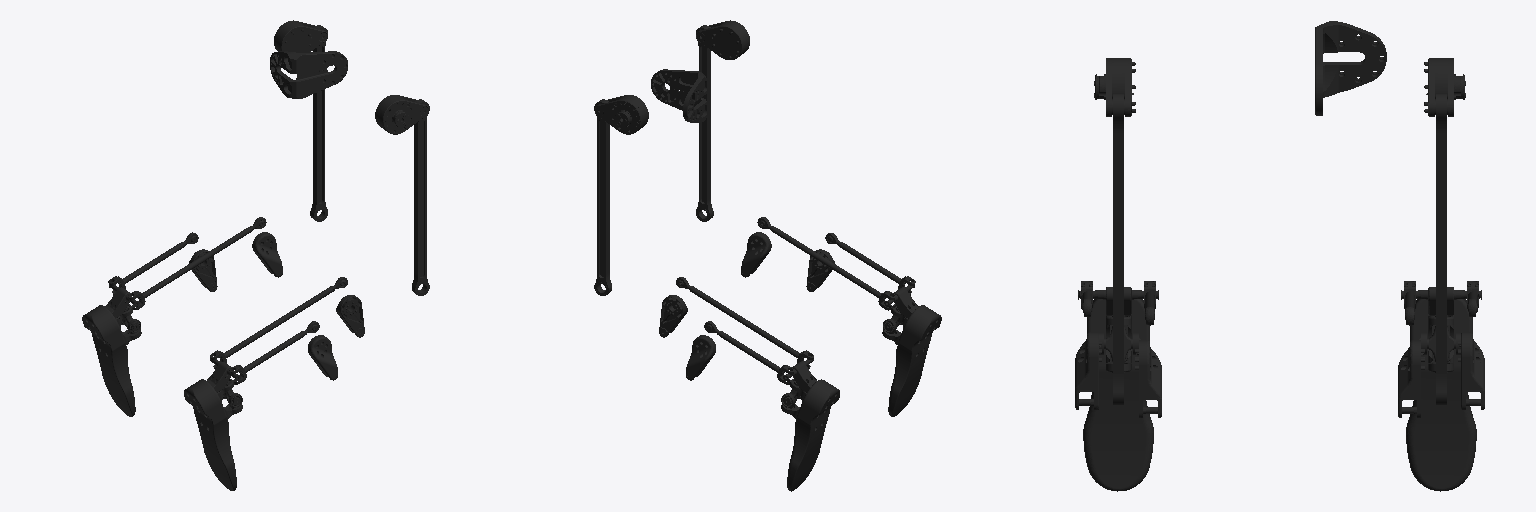
--- Render facts (derived) ---
3 views of the same robot in one strip: view 1: azimuth 30°, elevation 25°; view 2: azimuth 150°, elevation 25°; view 3: azimuth 270°, elevation 25° (orthographic).
Model DHAL with 30 links and 29 joints (29 revolute), rooted at Pelvis, posed all joints at 0 but 2 set to mid-range because 0 is outside their limits (L_knee_joint = 1.22, R_knee_joint = 1.22).
Visible links, largest first — view 1: L_Foot, R_Foot, L_Hip_to_Thigh, R_Knee_Link, L_Knee_Link, R_Knee_Input, L_Knee_Input, L_Heel_Roll_Right, R_Heel_Roll_Left, L_Ankle_Input_Right, R_Ankle_Input_Right, R_Ankle_Input_Left (+3 smaller); view 2: R_Foot, L_Foot, L_Knee_Link, L_Hip_to_Thigh, R_Knee_Link, L_Knee_Input, R_Knee_Input, R_Heel_Roll_Left, L_Heel_Roll_Right, R_Ankle_Input_Left, L_Ankle_Input_Left, L_Ankle_Input_Right (+3 smaller); view 3: L_Foot, R_Foot, L_Hip_to_Thigh, L_Knee_Link, R_Knee_Link, R_Knee_Input, L_Knee_Input, R_Ankle_Input_Right, L_Ankle_Input_Left, L_Ankle_Input_Right, R_Ankle_Input_Left.
Link boxes in pixels (bbox=[...]): L_Foot: bbox=[82, 285, 141, 416]; R_Foot: bbox=[184, 359, 242, 490]; L_Hip_to_Thigh: bbox=[270, 51, 347, 98]; R_Knee_Link: bbox=[412, 99, 429, 295]; L_Knee_Link: bbox=[310, 25, 327, 221]; R_Knee_Input: bbox=[375, 95, 429, 134]; L_Knee_Input: bbox=[274, 20, 327, 52]; L_Heel_Roll_Right: bbox=[128, 217, 266, 309]; R_Heel_Roll_Left: bbox=[210, 277, 347, 368]; L_Ankle_Input_Right: bbox=[252, 232, 282, 277]; R_Ankle_Input_Right: bbox=[308, 335, 337, 380]; R_Ankle_Input_Left: bbox=[336, 295, 364, 337]; R_Foot: bbox=[882, 285, 941, 416]; L_Foot: bbox=[781, 359, 839, 491]; L_Knee_Link: bbox=[594, 99, 611, 295]; L_Hip_to_Thigh: bbox=[651, 69, 706, 122]; R_Knee_Link: bbox=[696, 25, 713, 221]; L_Knee_Input: bbox=[594, 95, 648, 134]; R_Knee_Input: bbox=[696, 20, 749, 59]; R_Heel_Roll_Left: bbox=[757, 217, 895, 310]; L_Heel_Roll_Right: bbox=[676, 277, 813, 368]; R_Ankle_Input_Left: bbox=[741, 232, 771, 277]; L_Ankle_Input_Left: bbox=[686, 335, 715, 380]; L_Ankle_Input_Right: bbox=[659, 295, 687, 337]; L_Foot: bbox=[1401, 287, 1481, 491]; R_Foot: bbox=[1078, 287, 1158, 491]; L_Hip_to_Thigh: bbox=[1315, 21, 1386, 115]; L_Knee_Link: bbox=[1436, 94, 1446, 404]; R_Knee_Link: bbox=[1113, 94, 1123, 404]; R_Knee_Input: bbox=[1094, 58, 1135, 116]; L_Knee_Input: bbox=[1424, 58, 1465, 116]; R_Ankle_Input_Right: bbox=[1075, 332, 1101, 409]; L_Ankle_Input_Left: bbox=[1458, 332, 1484, 409]; L_Ankle_Input_Right: bbox=[1398, 340, 1424, 417]; R_Ankle_Input_Left: bbox=[1135, 340, 1161, 417].
Size in the robot's own frame: 0.5569 by 0.5222 by 0.7984 metres.
Meshes: 19 distinct files referenced, 17 mesh visuals loaded (10 Collada DAE); not drawn: 13 (reference not matched to a file when rendering).

robot.urdf — DHAL:
<robot name="DHAL" xmlns:xacro="http://www.ros.org/wiki/xacro">
    <material name="black">
        <color rgba="0.0 0.0 0.0 1.0"/>
    </material>
    <material name="blue">
        <color rgba="0.0 0.0 0.8 1.0"/>
    </material>
    <material name="green">
        <color rgba="0.0 0.8 0.0 1.0"/>
    </material>
    <material name="grey">
        <color rgba="0.2 0.2 0.2 1.0"/>
    </material>
    <material name="silver">
        <color rgba="0.913725490196 0.913725490196 0.847058823529 1.0"/>
    </material>
    <material name="orange">
        <color rgba="1.0 0.423529411765 0.0392156862745 1.0"/>
    </material>
    <material name="brown">
        <color rgba="0.870588235294 0.811764705882 0.764705882353 1.0"/>
    </material>
    <material name="red">
        <color rgba="0.8 0.0 0.0 1.0"/>
    </material>
    <material name="white">
        <color rgba="1.0 1.0 1.0 1.0"/>
    </material>

    <link name="Pelvis">
        <visual>
            <origin rpy="0 0 0" xyz="0 0 0"/>
            <geometry>
                <mesh filename="Pelvis.dae" scale="1 1 1"/>
            </geometry>
            <material name="grey"/>
        </visual>
        <collision>
            <origin rpy="0 0 0" xyz="0 0 0"/>
            <geometry>
                <box size="0.12 0.32 0.1"/>
            </geometry>
        </collision>
        <inertial>
            <origin rpy="0 0 0" xyz="0.002084 0 -0.009262"/>
            <mass value="4.775304"/>
            <inertia ixx="0.046918" ixy="0.000013" ixz="0.000449" iyy="0.007785" iyz="0.0" izz="0.0048142"/>
        </inertial>
    </link>

    <joint name="L_hip_yaw_joint" type="revolute">
        <origin rpy="0 0 0" xyz="0.0 0.1 -0.0492"/>
        <parent link="Pelvis"/>
        <child link="L_Hip"/>
        <axis xyz="0 0 1"/>
        <dynamics rotor_inertia="0.0724" damping="0" friction="0"/>
        <limit effort="360.0" velocity="10.0" lower="-0.785398" upper="1.57079632679"/>
    </joint>
    <link name="L_Hip">
        <visual>
            <origin rpy="0 0 0" xyz="0 0 0"/>
            <geometry>
                <mesh filename="Hip.dae" scale="1 1 1"/>
            </geometry>
            <material name="grey"/>
        </visual>
        <collision>
            <origin rpy="0 1.57079632679 0" xyz="0 0 -0.07"/>
            <geometry>
                <cylinder radius="0.06" length="0.08"/>
            </geometry>
        </collision>
        <inertial>
            <origin rpy="0 0 0" xyz="0.010407 0.00004 -0.066062"/>
            <mass value="2.204506"/>
            <inertia ixx="0.013818" ixy="0.000008" ixz="-0.001448" iyy="0.013243" iyz="-0.000007" izz="0.003344"/>
        </inertial>
    </link>

    <joint name="L_hip_roll_joint" type="revolute">
        <origin rpy="0 0 0" xyz="0.0502 0.0 -0.07"/>
        <parent link="L_Hip"/>
        <child link="L_Hip_to_Thigh"/>
        <axis xyz="1 0 0"/>
        <dynamics rotor_inertia="0.0724" damping="0" friction="0"/>
        <limit effort="360.0" velocity="10.0" lower="-0.349066" upper="0.785398"/>
    </joint>
    <link name="L_Hip_to_Thigh">
        <visual>
            <origin rpy="0 0 0" xyz="0 0 0"/>
            <geometry>
                <mesh filename="Hip_to_Thigh.dae" scale="1 1 1"/>
            </geometry>
            <material name="grey"/>
        </visual>
        <collision>
            <origin rpy="1.57079632679 0 0" xyz="0.096 0.005 0"/>
            <geometry>
                <cylinder radius="0.09" length="0.1"/>
            </geometry>
        </collision>
        <inertial>
            <origin rpy="0 0 0" xyz="0.038459 -0.034907 0.0"/>
            <mass value="0.260453"/>
            <inertia ixx="0.000662" ixy="-0.000480" ixz="-0.000001" iyy="0.000964" iyz="-0.000001" izz="0.001216"/>
        </inertial>
    </link>

    <joint name="L_hip_pitch_joint" type="revolute">
        <origin rpy="0 0 0" xyz="0.096 -0.0451 0"/>
        <parent link="L_Hip_to_Thigh"/>
        <child link="L_Thigh"/>
        <axis xyz="0 1 0"/>
        <dynamics rotor_inertia="0.3608" damping="0" friction="0"/>
        <limit effort="600.0" velocity="10.0" lower="-1.57079632679" upper="1.57079632679"/>
    </joint>
    <link name="L_Thigh">
        <visual>
            <origin rpy="0 0 0" xyz="0 0 0"/>
            <geometry>
                <mesh filename="Thigh.dae" scale="1 1 1"/>
            </geometry>
            <material name="grey"/>
        </visual>
        <inertial>
            <origin rpy="0 0 0" xyz="-0.001634 0.085634 -0.046218"/>
            <mass value="6.727728"/>
            <inertia ixx="0.162785" ixy="-0.001743" ixz="0.001495" iyy="0.105165" iyz="-0.046141" izz="0.078287"/>
        </inertial>
    </link>

    <joint name="L_knee_joint" type="revolute">
        <origin rpy="0 0 0" xyz="0 0.1507 -0.4"/>
        <parent link="L_Thigh"/>
        <child link="L_Calf"/>
        <axis xyz="0 1 0"/>
        <dynamics damping="0" friction="0"/>
        <limit lower="0.0872665" upper="2.35619"/>
    </joint>
    <link name="L_Calf">
        <visual>
            <origin rpy="0 0 0" xyz="0 0 0"/>
            <geometry>
                <mesh filename="Calf.dae" scale="1 1 1"/>
            </geometry>
            <material name="grey"/>
        </visual>
        <collision>
            <origin rpy="0 0 0" xyz="0 0 -0.205"/>
            <geometry>
                <box size="0.1 0.05 0.30"/>
            </geometry>
        </collision>
        <inertial>
            <origin rpy="0 0 0" xyz="-0.005214 0.000006 -0.145234"/>
            <mass value="3.386071"/>
            <inertia ixx="0.102883" ixy="0.000001" ixz="0.002760" iyy="0.105686" iyz="-0.000764" izz="0.004473"/>
        </inertial>
    </link>

    <joint name="L_ankle_pitch_joint" type="revolute">
        <origin rpy="0 0 0" xyz="0 0 -0.41"/>
        <parent link="L_Calf"/>
        <child link="L_Universal"/>
        <axis xyz="0 1 0"/>
        <dynamics damping="0" friction="0"/>
        <limit lower="-0.872665" upper="0.698132"/>
    </joint>
    <link name="L_Universal">
        <visual>
            <origin rpy="0 0 0" xyz="0 0 0"/>
            <geometry>
                <mesh filename="Ankle_Universal.dae" scale="1 1 1"/>
            </geometry>
            <material name="grey"/>
        </visual>
        <inertial>
            <origin rpy="0 0 0" xyz="0.0 0.0 0.0"/>
            <mass value="0.209567"/>
            <inertia ixx="0.000048" ixy="0.0" ixz="0.0" iyy="0.000089" iyz="0.0" izz="0.000124"/>
        </inertial>
    </link>

    <joint name="L_ankle_roll_joint" type="revolute">
        <origin rpy="0 0 0" xyz="0 0 0"/>
        <parent link="L_Universal"/>
        <child link="L_Foot"/>
        <axis xyz="1 0 0"/>
        <dynamics damping="0" friction="0"/>
        <limit lower="-0.523599" upper="0.523599"/>
    </joint>
    <link name="L_Foot">
        <visual>
            <origin rpy="0 0 0" xyz="0 0 0"/>
            <geometry>
                <mesh filename="Foot.dae" scale="1 1 1"/>
            </geometry>
            <material name="grey"/>
        </visual>
            <collision>
                <origin rpy="0 0 0" xyz="0.065 0 -0.07"/>
                <geometry>
                    <box size="0.18 0.08 0.02"/>
                </geometry>
            </collision>
            <collision>
                <origin rpy="0 0 0" xyz="0.155 0 -0.07"/>
                <geometry>
                    <cylinder length="0.02" radius="0.04"/>
                </geometry>
            </collision>
            <collision>
                <origin rpy="0 0 0" xyz="-0.025 0 -0.07"/>
                <geometry>
                    <cylinder length="0.02" radius="0.04"/>
                </geometry>
            </collision>
        <inertial>
            <origin rpy="0 0 0" xyz="0.004829 -0.00002 -0.035655"/>
            <mass value="0.571816"/>
            <inertia ixx="0.001485" ixy="0.000001" ixz="-0.000942" iyy="0.003882" iyz="0.0" izz="0.002841"/>
        </inertial>
    </link>

    <joint name="L_heel_pitch_left_joint" type="revolute">
        <origin rpy="0 0 0" xyz="-0.06401 0.04 0.01129"/>
        <parent link="L_Foot"/>
        <child link="L_Heel_Pitch_Left"/>
        <axis xyz="0 1 0"/>
        <dynamics damping="0" friction="0"/>
    </joint>
    <link name="L_Heel_Pitch_Left">
        <visual>
            <origin rpy="0 0 0" xyz="0 0 0"/>
            <geometry>
                <mesh filename="Heel_Pitch.dae" scale="1 1 1"/>
            </geometry>
            <material name="grey"/>
        </visual>
        <inertial>
            <origin rpy="0 0 0" xyz="0.0 0.0 0.0"/>
            <mass value="0.046696"/>
            <inertia ixx="0.00002" ixy="0.0" ixz="0.0" iyy="0.000005" iyz="0.0" izz="0.000005"/>
        </inertial>
    </link>

    <joint name="L_heel_roll_left_joint" type="revolute">
        <origin rpy="0 0 0" xyz="0 0 0"/>
        <parent link="L_Heel_Pitch_Left"/>
        <child link="L_Heel_Roll_Left"/>
        <axis xyz="1 0 0"/>
        <dynamics damping="0" friction="0"/>
    </joint>
    <link name="L_Heel_Roll_Left">
        <visual>
            <origin rpy="0 0 0" xyz="0 0 0"/>
            <geometry>
                <mesh filename="Ankle_Link_Short.dae" scale="1 1 1"/>
            </geometry>
            <material name="grey"/>
        </visual>
        <inertial>
            <origin rpy="0 0 0" xyz="0.000024 0.0 0.087387"/>
            <mass value="0.116743"/>
            <inertia ixx="0.001566" ixy="0.0" ixz="0.0" iyy="0.001571" iyz="0.0" izz="0.000009"/>
        </inertial>
    </link>

    <joint name="L_heel_pitch_right_joint" type="revolute">
        <origin rpy="0 0 0" xyz="-0.06401 -0.04 0.01129"/>
        <parent link="L_Foot"/>
        <child link="L_Heel_Pitch_Right"/>
        <axis xyz="0 1 0"/>
        <dynamics damping="0" friction="0"/>
    </joint>
    <link name="L_Heel_Pitch_Right">
        <visual>
            <origin rpy="0 0 0" xyz="0 0 0"/>
            <geometry>
                <mesh filename="Heel_Pitch.dae" scale="1 1 1"/>
            </geometry>
            <material name="grey"/>
        </visual>
        <inertial>
            <origin rpy="0 0 0" xyz="0.0 0.0 0.0"/>
            <mass value="0.046696"/>
            <inertia ixx="0.00002" ixy="0.0" ixz="0.0" iyy="0.000005" iyz="0.0" izz="0.000005"/>
        </inertial>
    </link>

    <joint name="L_heel_roll_right_joint" type="revolute">
        <origin rpy="0 0 0" xyz="0 0 0"/>
        <parent link="L_Heel_Pitch_Right"/>
        <child link="L_Heel_Roll_Right"/>
        <axis xyz="1 0 0"/>
        <dynamics damping="0" friction="0"/>
    </joint>
    <link name="L_Heel_Roll_Right">
        <visual>
            <origin rpy="0 0 0" xyz="0 0 0"/>
            <geometry>
                <mesh filename="Ankle_Link_Long.dae" scale="1 1 1"/>
            </geometry>
            <material name="grey"/>
        </visual>
        <inertial>
            <origin rpy="0 0 0" xyz="0.00002 0.0 0.143108"/>
            <mass value="0.144226"/>
            <inertia ixx="0.005069" ixy="0.0" ixz="0.0" iyy="0.005074" iyz="0.0" izz="0.000009"/>
        </inertial>
    </link>


    <joint name="L_ankle_input_left_joint" type="revolute">
        <origin rpy="0 0 0" xyz="-0.008 0.0255 -0.20464"/>
        <parent link="L_Calf"/>
        <child link="L_Ankle_Input_Left"/>
        <axis xyz="0 1 0"/>
        <dynamics rotor_inertia="0.023168" damping="0" friction="0"/>
        <limit effort="150.0" velocity="10.0"/>
    </joint>
    <link name="L_Ankle_Input_Left">
        <visual>
            <origin rpy="0 0 0" xyz="0 0 0"/>
            <geometry>
                <mesh filename="Ankle_Link_Input.dae" scale="1 1 1"/>
            </geometry>
            <material name="grey"/>
        </visual>
        <inertial>
            <origin rpy="0 0 0" xyz="0.02255 0.012714 -0.001469"/>
            <mass value="0.132288"/>
            <inertia ixx="0.000048" ixy="0.000048" ixz="0.0" iyy="0.00017" iyz="-0.000004" izz="0.000187"/>
        </inertial>
    </link>

    <joint name="L_ankle_input_right_joint" type="revolute">
        <origin rpy="0 0 0" xyz="-0.008 -0.0255 -0.08964"/>
        <parent link="L_Calf"/>
        <child link="L_Ankle_Input_Right"/>
        <axis xyz="0 1 0"/>
        <dynamics rotor_inertia="0.023168" damping="0" friction="0"/>
        <limit effort="150.0" velocity="10.0"/>
    </joint>
    <link name="L_Ankle_Input_Right">
        <visual>
            <origin rpy="0 0 0" xyz="0 0 0"/>
            <geometry>
                <mesh filename="Ankle_Link_Input_mir.dae" scale="1 1 1"/>
            </geometry>
            <material name="grey"/>
        </visual>
        <inertial>
            <origin rpy="0 0 0" xyz="0.02255 -0.012714 -0.001469"/>
            <mass value="0.132288"/>
            <inertia ixx="0.000048" ixy="-0.000048" ixz="0.0" iyy="0.00017" iyz="0.000004" izz="0.000187"/>
        </inertial>
    </link>

    <joint name="L_knee_input_joint" type="revolute">
        <origin rpy="0 0 0" xyz="0 0.1342 0"/>
        <parent link="L_Thigh"/>
        <child link="L_Knee_Input"/>
        <axis xyz="0 1 0"/>
        <dynamics damping="0" friction="0"/>
        <limit effort="600.0" velocity="10.0"/>
    </joint>
    <link name="L_Knee_Input">
        <visual>
            <origin rpy="0 0 0" xyz="0 0 0"/>
            <geometry>
                <mesh filename="Knee_Link_Input.dae" scale="1 1 1"/>
            </geometry>
            <material name="grey"/>
        </visual>
        <inertial>
            <origin rpy="0 0 0" xyz="0.017352 0.017440 -0.000053"/>
            <mass value="0.335783"/>
            <inertia ixx="0.000254" ixy="0.000096" ixz="0.000002" iyy="0.000514" iyz="0.0" izz="0.000574"/>
        </inertial>
    </link>

    <joint name="L_knee_link_joint" type="revolute">
        <origin rpy="0 0 0" xyz="0.06 0.0165 0"/>
        <parent link="L_Knee_Input"/>
        <child link="L_Knee_Link"/>
        <axis xyz="0 1 0"/>
        <dynamics damping="0" friction="0"/>
    </joint>
    <link name="L_Knee_Link">
        <visual>
            <origin rpy="0 0 0" xyz="0 0 0"/>
            <geometry>
                <mesh filename="Knee_Link.dae" scale="1 1 1"/>
            </geometry>
            <material name="grey"/>
        </visual>
        <inertial>
            <origin rpy="0 0 0" xyz="0.0 -0.000002 -0.2"/>
            <mass value="0.203531"/>
            <inertia ixx="0.012837" ixy="0.0" ixz="0.0" iyy="0.012848" iyz="0.0" izz="0.000018"/>
        </inertial>
    </link>

    <joint name="R_hip_yaw_joint" type="revolute">
        <origin rpy="0 0 0" xyz="0.0 -0.1 -0.0492"/>
        <parent link="Pelvis"/>
        <child link="R_Hip"/>
        <axis xyz="0 0 1"/>
        <dynamics rotor_inertia="0.0724" damping="0" friction="0"/>
        <limit effort="360.0" velocity="10.0" lower="-0.785398" upper="1.57079632679"/>
    </joint>
    <link name="R_Hip">
        <visual>
            <origin rpy="0 0 0" xyz="0 0 0"/>
            <geometry>
                <mesh filename="Hip.dae" scale="1 1 1"/>
            </geometry>
            <material name="grey"/>
        </visual>
        <collision>
            <origin rpy="0 1.57079632679 0" xyz="0 0 -0.07"/>
            <geometry>
                <cylinder radius="0.06" length="0.08"/>
            </geometry>
        </collision>
        <inertial>
            <origin rpy="0 0 0" xyz="0.010407 0.00004 -0.066062"/>
            <mass value="2.204506"/>
            <inertia ixx="0.013818" ixy="0.000008" ixz="-0.001448" iyy="0.013243" iyz="-0.000007" izz="0.003344"/>
        </inertial>
    </link>

    <joint name="R_hip_roll_joint" type="revolute">
        <origin rpy="0 0 0" xyz="0.0502 0.0 -0.07"/>
        <parent link="R_Hip"/>
        <child link="R_Hip_to_Thigh"/>
        <axis xyz="1 0 0"/>
        <dynamics rotor_inertia="0.0724" damping="0" friction="0"/>
        <limit effort="360.0" velocity="10.0" lower="-0.349066" upper="0.785398"/>
    </joint>
    <link name="R_Hip_to_Thigh">
        <visual>
            <origin rpy="0 0 0" xyz="0 0 0"/>
            <geometry>
                <mesh filename="Hip_to_Thigh_mir.dae" scale="1 1 1"/>
            </geometry>
            <material name="grey"/>
        </visual>
        <collision>
            <origin rpy="1.57079632679 0 0" xyz="0.096 0.005 0"/>
            <geometry>
                <cylinder radius="0.09" length="0.1"/>
            </geometry>
        </collision>
        <inertial>
            <origin rpy="0 0 0" xyz="0.038459 0.034907 0.0"/>
            <mass value="0.260453"/>
            <inertia ixx="0.000662" ixy="0.000480" ixz="0.000001" iyy="0.000964" iyz="-0.000001" izz="0.001216"/>
        </inertial>
    </link>

    <joint name="R_hip_pitch_joint" type="revolute">
        <origin rpy="0 0 0" xyz="0.096 0.0451 0"/>
        <parent link="R_Hip_to_Thigh"/>
        <child link="R_Thigh"/>
        <axis xyz="0 1 0"/>
        <dynamics rotor_inertia="0.3608" damping="0" friction="0"/>
        <limit effort="600.0" velocity="10.0" lower="-1.57079632679" upper="1.57079632679"/>
    </joint>
    <link name="R_Thigh">
        <visual>
            <origin rpy="0 0 0" xyz="0 0 0"/>
            <geometry>
                <mesh filename="Thigh_mir.dae" scale="1 1 1"/>
            </geometry>
            <material name="grey"/>
        </visual>
        <inertial>
            <origin rpy="0 0 0" xyz="-0.001634 -0.085634 -0.046218"/>
            <mass value="6.727728"/>
            <inertia ixx="0.162785" ixy="0.001743" ixz="0.001495" iyy="0.105165" iyz="0.046141" izz="0.078287"/>
        </inertial>
    </link>

    <joint name="R_knee_joint" type="revolute">
        <origin rpy="0 0 0" xyz="0 -0.1507 -0.4"/>
        <parent link="R_Thigh"/>
        <child link="R_Calf"/>
        <axis xyz="0 1 0"/>
        <dynamics damping="0" friction="0"/>
        <limit lower="0.0872665" upper="2.35619"/>
    </joint>
    <link name="R_Calf">
        <visual>
            <origin rpy="0 0 0" xyz="0 0 0"/>
            <geometry>
                <mesh filename="Calf_mir.dae" scale="1 1 1"/>
            </geometry>
            <material name="grey"/>
        </visual>
        <collision>
            <origin rpy="0 0 0" xyz="0 0 -0.205"/>
            <geometry>
                <box size="0.1 0.05 0.30"/>
            </geometry>
        </collision>
        <inertial>
            <origin rpy="0 0 0" xyz="-0.005214 -0.000006 -0.145234"/>
            <mass value="3.386071"/>
            <inertia ixx="0.102883" ixy="-0.000001" ixz="0.002760" iyy="0.105686" iyz="0.000764" izz="0.004473"/>
        </inertial>
    </link>

    <joint name="R_ankle_pitch_joint" type="revolute">
        <origin rpy="0 0 0" xyz="0 0 -0.41"/>
        <parent link="R_Calf"/>
        <child link="R_Universal"/>
        <axis xyz="0 1 0"/>
        <dynamics damping="0" friction="0"/>
        <limit lower="-0.872665" upper="0.698132"/>
    </joint>
    <link name="R_Universal">
        <visual>
            <origin rpy="0 0 0" xyz="0 0 0"/>
            <geometry>
                <mesh filename="Ankle_Universal.dae" scale="1 1 1"/>
            </geometry>
            <material name="grey"/>
        </visual>
        <inertial>
            <origin rpy="0 0 0" xyz="0.0 0.0 0.0"/>
            <mass value="0.209567"/>
            <inertia ixx="0.000048" ixy="0.0" ixz="0.0" iyy="0.000089" iyz="0.0" izz="0.000124"/>
        </inertial>
    </link>

    <joint name="R_ankle_roll_joint" type="revolute">
        <origin rpy="0 0 0" xyz="0 0 0"/>
        <parent link="R_Universal"/>
        <child link="R_Foot"/>
        <axis xyz="1 0 0"/>
        <dynamics damping="0" friction="0"/>
        <limit lower="-0.523599" upper="0.523599"/>
    </joint>
    <link name="R_Foot">
        <visual>
            <origin rpy="0 0 0" xyz="0 0 0"/>
            <geometry>
                <mesh filename="Foot.dae" scale="1 1 1"/>
            </geometry>
            <material name="grey"/>
        </visual>
        <collision>
            <origin rpy="0 0 0" xyz="0.065 0 -0.07"/>
            <geometry>
                <box size="0.18 0.08 0.02"/>
            </geometry>
        </collision>
        <collision>
            <origin rpy="0 0 0" xyz="0.155 0 -0.07"/>
            <geometry>
                <cylinder length="0.02" radius="0.04"/>
            </geometry>
        </collision>
        <collision>
            <origin rpy="0 0 0" xyz="-0.025 0 -0.07"/>
            <geometry>
                <cylinder length="0.02" radius="0.04"/>
            </geometry>
        </collision>
        <inertial>
            <origin rpy="0 0 0" xyz="0.004829 -0.00002 -0.035655"/>
            <mass value="0.571816"/>
            <inertia ixx="0.001485" ixy="0.000001" ixz="-0.000942" iyy="0.003882" iyz="0.0" izz="0.002841"/>
        </inertial>
    </link>

    <joint name="R_heel_pitch_left_joint" type="revolute">
        <origin rpy="0 0 0" xyz="-0.06401 0.04 0.01129"/>
        <parent link="R_Foot"/>
        <child link="R_Heel_Pitch_Left"/>
        <axis xyz="0 1 0"/>
        <dynamics damping="0" friction="0"/>
    </joint>
    <link name="R_Heel_Pitch_Left">
        <visual>
            <origin rpy="0 0 0" xyz="0 0 0"/>
            <geometry>
                <mesh filename="Heel_Pitch.dae" scale="1 1 1"/>
            </geometry>
            <material name="grey"/>
        </visual>
        <inertial>
            <origin rpy="0 0 0" xyz="0.0 0.0 0.0"/>
            <mass value="0.046696"/>
            <inertia ixx="0.00002" ixy="0.0" ixz="0.0" iyy="0.000005" iyz="0.0" izz="0.000005"/>
        </inertial>
    </link>

    <joint name="R_heel_roll_left_joint" type="revolute">
        <origin rpy="0 0 0" xyz="0 0 0"/>
        <parent link="R_Heel_Pitch_Left"/>
        <child link="R_Heel_Roll_Left"/>
        <axis xyz="1 0 0"/>
        <dynamics damping="0" friction="0"/>
    </joint>
    <link name="R_Heel_Roll_Left">
        <visual>
            <origin rpy="0 0 0" xyz="0 0 0"/>
            <geometry>
                <mesh filename="Ankle_Link_Long.dae" scale="1 1 1"/>
            </geometry>
            <material name="grey"/>
        </visual>
        <inertial>
            <origin rpy="0 0 0" xyz="0.00002 0.0 0.143108"/>
            <mass value="0.144226"/>
            <inertia ixx="0.005069" ixy="0.0" ixz="0.0" iyy="0.005074" iyz="0.0" izz="0.000009"/>
        </inertial>
    </link>

    <joint name="R_heel_pitch_right_joint" type="revolute">
        <origin rpy="0 0 0" xyz="-0.06401 -0.04 0.01129"/>
        <parent link="R_Foot"/>
        <child link="R_Heel_Pitch_Right"/>
        <axis xyz="0 1 0"/>
        <dynamics damping="0" friction="0"/>
    </joint>
    <link name="R_Heel_Pitch_Right">
        <visual>
            <origin rpy="0 0 0" xyz="0 0 0"/>
            <geometry>
                <mesh filename="Heel_Pitch.dae" scale="1 1 1"/>
            </geometry>
            <material name="grey"/>
        </visual>
        <inertial>
            <origin rpy="0 0 0" xyz="0.0 0.0 0.0"/>
            <mass value="0.046696"/>
            <inertia ixx="0.00002" ixy="0.0" ixz="0.0" iyy="0.000005" iyz="0.0" izz="0.000005"/>
        </inertial>
    </link>

    <joint name="R_heel_roll_right_joint" type="revolute">
        <origin rpy="0 0 0" xyz="0 0 0"/>
        <parent link="R_Heel_Pitch_Right"/>
        <child link="R_Heel_Roll_Right"/>
        <axis xyz="1 0 0"/>
        <dynamics damping="0" friction="0"/>
    </joint>
    <link name="R_Heel_Roll_Right">
        <visual>
            <origin rpy="0 0 0" xyz="0 0 0"/>
            <geometry>
                <mesh filename="Ankle_Link_Short.dae" scale="1 1 1"/>
            </geometry>
            <material name="grey"/>
        </visual>
        <inertial>
            <origin rpy="0 0 0" xyz="0.000024 0.0 0.087387"/>
            <mass value="0.116743"/>
            <inertia ixx="0.001566" ixy="0.0" ixz="0.0" iyy="0.001571" iyz="0.0" izz="0.000009"/>
        </inertial>
    </link>

    <joint name="R_ankle_input_left_joint" type="revolute">
        <origin rpy="0 0 0" xyz="-0.008 0.0255 -0.08964"/>
        <parent link="R_Calf"/>
        <child link="R_Ankle_Input_Left"/>
        <axis xyz="0 1 0"/>
        <dynamics rotor_inertia="0.023168" damping="0" friction="0"/>
        <limit effort="150.0" velocity="10.0"/>
    </joint>
    <link name="R_Ankle_Input_Left">
        <visual>
            <origin rpy="0 0 0" xyz="0 0 0"/>
            <geometry>
                <mesh filename="Ankle_Link_Input.dae" scale="1 1 1"/>
            </geometry>
            <material name="grey"/>
        </visual>
        <inertial>
            <origin rpy="0 0 0" xyz="0.02255 0.012714 -0.001469"/>
            <mass value="0.132288"/>
            <inertia ixx="0.000048" ixy="0.000048" ixz="0.0" iyy="0.00017" iyz="-0.000004" izz="0.000187"/>
        </inertial>
    </link>

    <joint name="R_ankle_input_right_joint" type="revolute">
        <origin rpy="0 0 0" xyz="-0.008 -0.0255 -0.20464"/>
        <parent link="R_Calf"/>
        <child link="R_Ankle_Input_Right"/>
        <axis xyz="0 1 0"/>
        <dynamics rotor_inertia="0.023168" damping="0" friction="0"/>
        <limit effort="150.0" velocity="10.0"/>
    </joint>
    <link name="R_Ankle_Input_Right">
        <visual>
            <origin rpy="0 0 0" xyz="0 0 0"/>
            <geometry>
                <mesh filename="Ankle_Link_Input_mir.dae" scale="1 1 1"/>
            </geometry>
            <material name="grey"/>
        </visual>
        <inertial>
            <origin rpy="0 0 0" xyz="0.02255 -0.012714 -0.001469"/>
            <mass value="0.132288"/>
            <inertia ixx="0.000048" ixy="-0.000048" ixz="0.0" iyy="0.00017" iyz="0.000004" izz="0.000187"/>
        </inertial>
    </link>

    <joint name="R_knee_input_joint" type="revolute">
        <origin rpy="0 0 0" xyz="0 -0.1342 0"/>
        <parent link="R_Thigh"/>
        <child link="R_Knee_Input"/>
        <axis xyz="0 1 0"/>
        <dynamics damping="0" friction="0"/>
        <limit effort="600.0" velocity="10.0"/>
    </joint>
    <link name="R_Knee_Input">
        <visual>
            <origin rpy="0 0 0" xyz="0 0 0"/>
            <geometry>
                <mesh filename="Knee_Link_Input_mir.dae" scale="1 1 1"/>
            </geometry>
            <material name="grey"/>
        </visual>
        <inertial>
            <origin rpy="0 0 0" xyz="0.017352 -0.017440 -0.000053"/>
            <mass value="0.335783"/>
            <inertia ixx="0.000254" ixy="-0.000096" ixz="0.000002" iyy="0.000514" iyz="0.0" izz="0.000574"/>
        </inertial>
    </link>

    <joint name="R_knee_link_joint" type="revolute">
        <origin rpy="0 0 0" xyz="0.06 -0.0165 0"/>
        <parent link="R_Knee_Input"/>
        <child link="R_Knee_Link"/>
        <axis xyz="0 1 0"/>
        <dynamics damping="0" friction="0"/>
    </joint>
    <link name="R_Knee_Link">
        <visual>
            <origin rpy="0 0 0" xyz="0 0 0"/>
            <geometry>
                <mesh filename="Knee_Link.dae" scale="1 1 1"/>
            </geometry>
            <material name="grey"/>
        </visual>
        <inertial>
            <origin rpy="0 0 0" xyz="0.0 -0.000002 -0.2"/>
            <mass value="0.203531"/>
            <inertia ixx="0.012837" ixy="0.0" ixz="0.0" iyy="0.012848" iyz="0.0" izz="0.000018"/>
        </inertial>
    </link>

    <joint name="waist_yaw_joint" type="revolute">
        <origin rpy="0 0 0" xyz="0.04 0.0 0.052"/>
        <parent link="Pelvis"/>
        <child link="Torso"/>
        <axis xyz="0 0 1"/>
        <dynamics rotor_inertia="0.0724" damping="0" friction="0"/>
        <limit effort="360.0" velocity="10.0" lower="-1.57080" upper="1.57080"/>
    </joint>
    <link name="Torso">
        <visual>
            <origin rpy="0 0 0" xyz="0 0 0.0"/>
            <geometry>
                <mesh filename="Torso.dae" scale="1 1 1"/>
            </geometry>
            <material name="grey"/>
        </visual>
        <collision>
            <origin rpy="0 0 0" xyz="0 0 0.2582"/>
            <geometry>
                <box size="0.14 0.242 0.374"/>
            </geometry>
        </collision>
        <inertial>
            <origin rpy="0 0 0" xyz="-0.000572 -0.000263 0.190711"/>
            <mass value="10.860955"/>
            <inertia ixx="0.587413" ixy="0.000116" ixz="0.001486" iyy="0.558421" iyz="-0.000878" izz="0.070026"/>
        </inertial>
    </link>

    <constraints nominal_config="0.0 0.0 1.0 1.0 0.0 0.0 0.0     0.0 0.0 -0.349066 0.3409066 0.0 0.0     0.608073 0.00261799 0.386241 -0.00157080 0.550826 0.269130 -0.872665 0.872665     0.0 0.0 -0.349066 0.3409066 0.0 0.0     0.386241 -0.00157080 0.608073 0.00261799 0.269130 0.550826 -0.872665 0.872665">
        <pin body1="L_Calf" body2="L_Knee_Link" anchor="0.0205212 0.0 0.0563816"/>
        <pin body1="L_Ankle_Input_Left" body2="L_Heel_Roll_Left" anchor="0.065 0.015 0.0"/>
        <pin body1="L_Ankle_Input_Right" body2="L_Heel_Roll_Right" anchor="0.065 -0.015 0.0"/>
        <pin body1="R_Calf" body2="R_Knee_Link" anchor="0.0205212 0.0 0.0563816"/>
        <pin body1="R_Ankle_Input_Left" body2="R_Heel_Roll_Left" anchor="0.065 0.015 0.0"/>
        <pin body1="R_Ankle_Input_Right" body2="R_Heel_Roll_Right" anchor="0.065 -0.015 0.0"/>
    </constraints>

 </robot>
